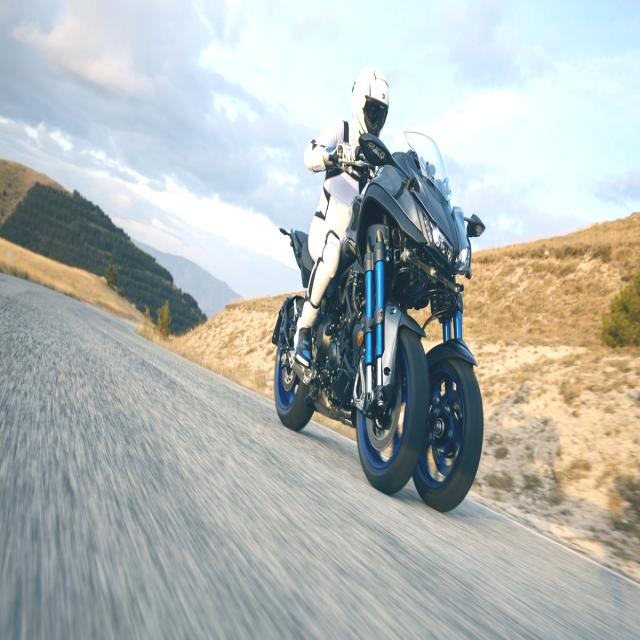MOTORCYCLE: (270, 150, 472, 502)
